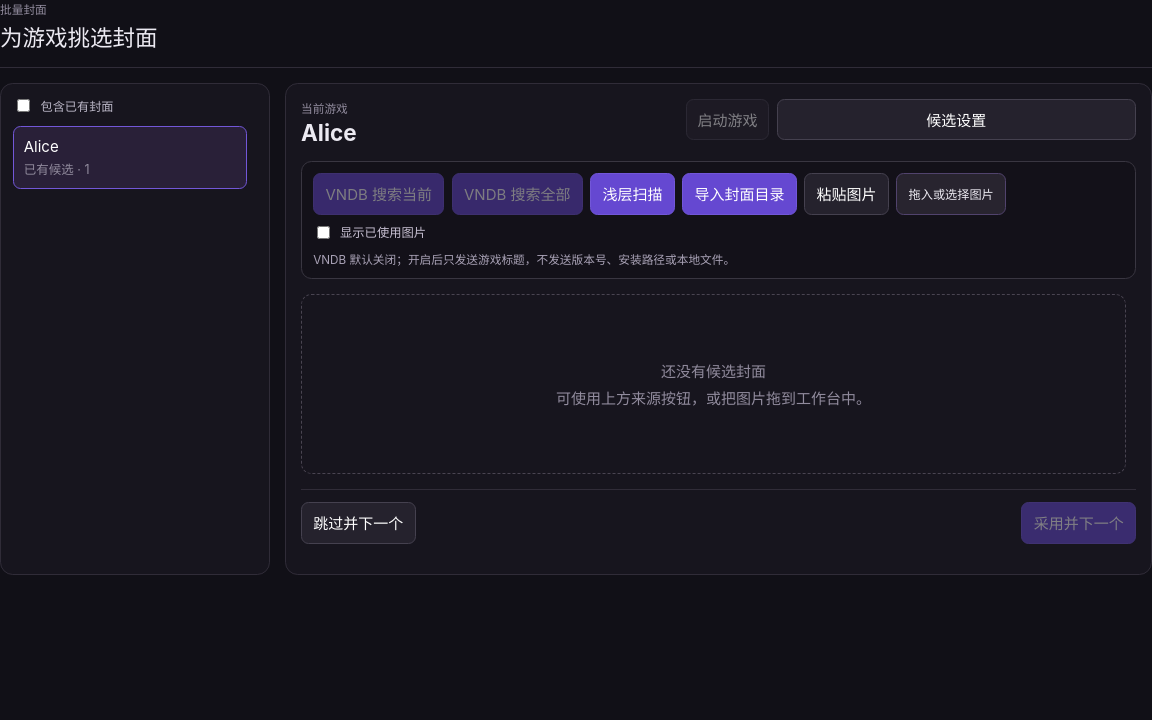
CoverWizardWorkspace › keeps settings form and reports a save failure
Click the button with test id "cover-settings-trigger". click: (956, 120)
box: [776,99,1136,140]
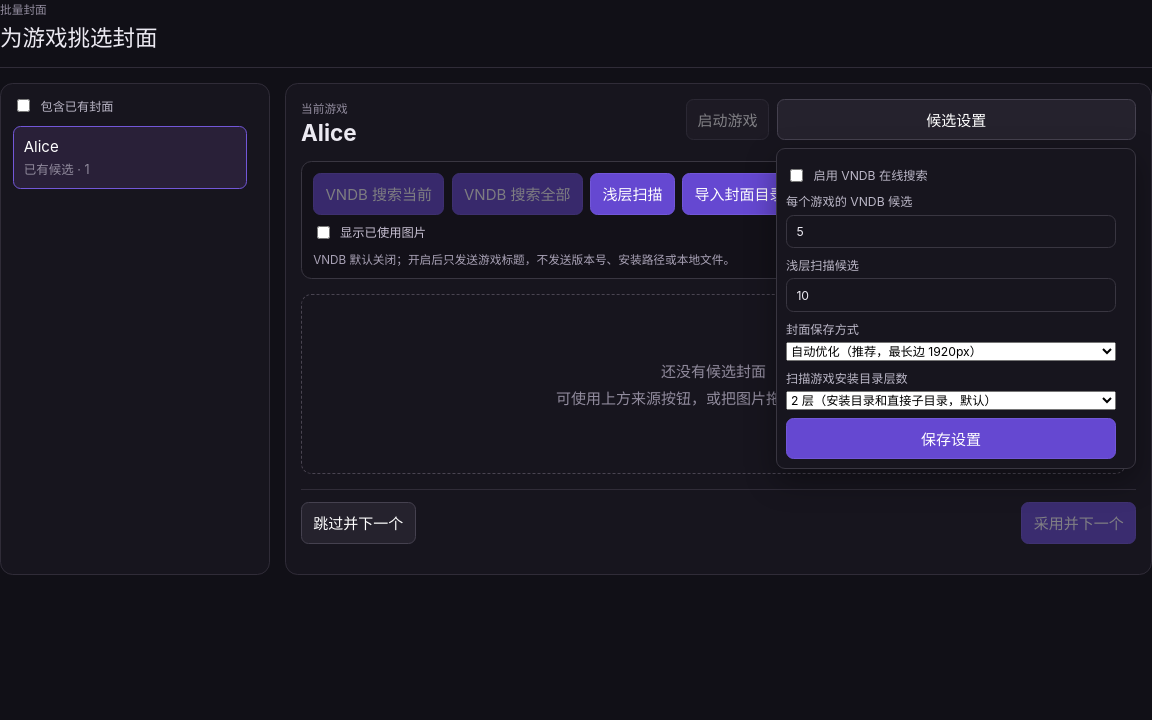
Click the checkbox labelled "启用 VNDB 在线搜索". click: (796, 175)
box: [790,168,803,182]
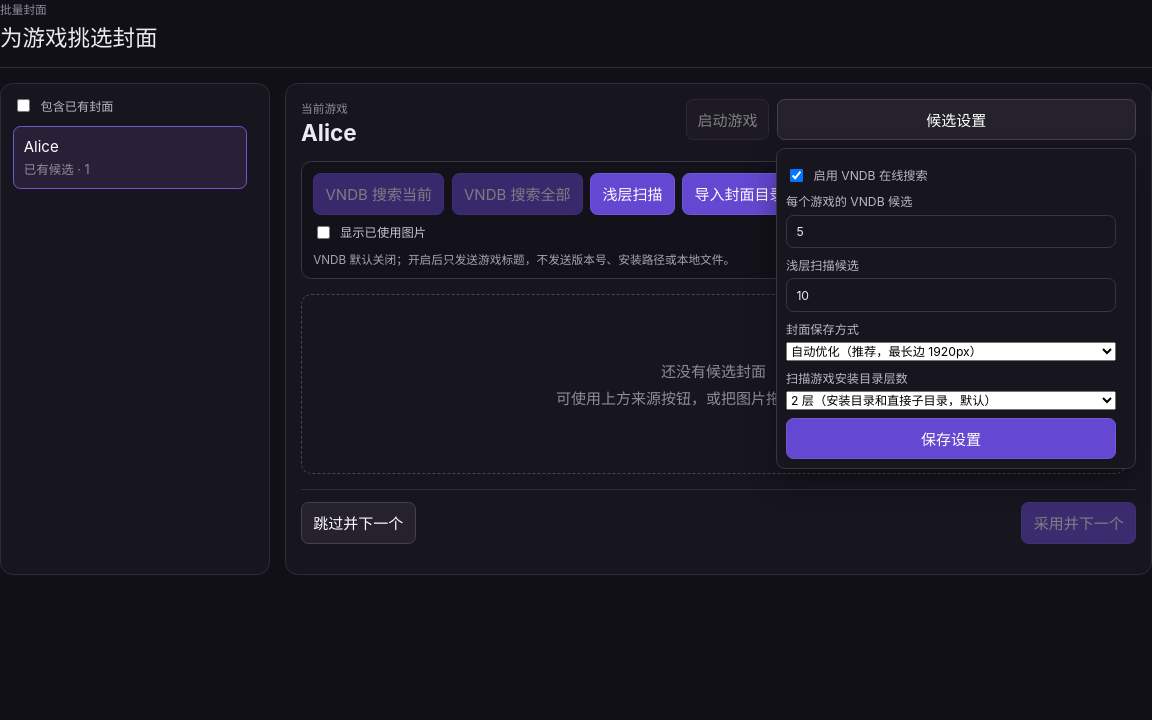
Select "保留原尺寸与格式" in the dropdown with test id "cover-optimize-mode". click: (951, 352)
box: [786,342,1116,361]
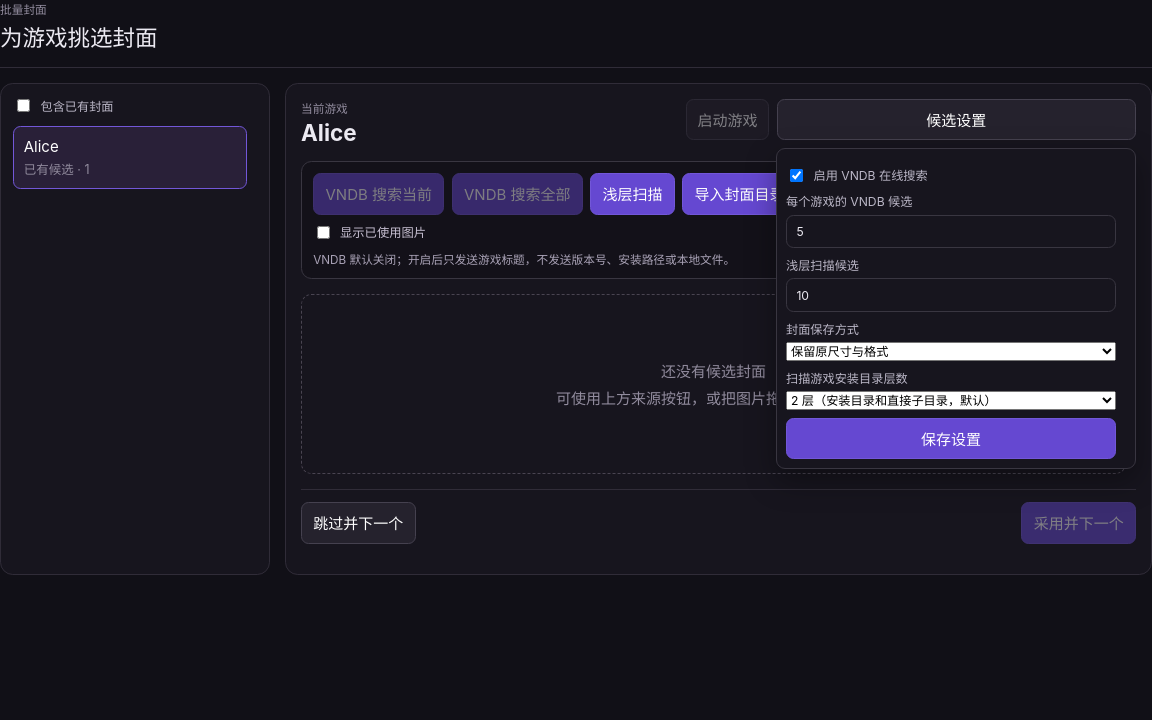
Select "3 层（再包含下一层子目录）" in the dropdown with test id "cover-local-scan-depth". click: (951, 401)
box: [786,391,1116,410]
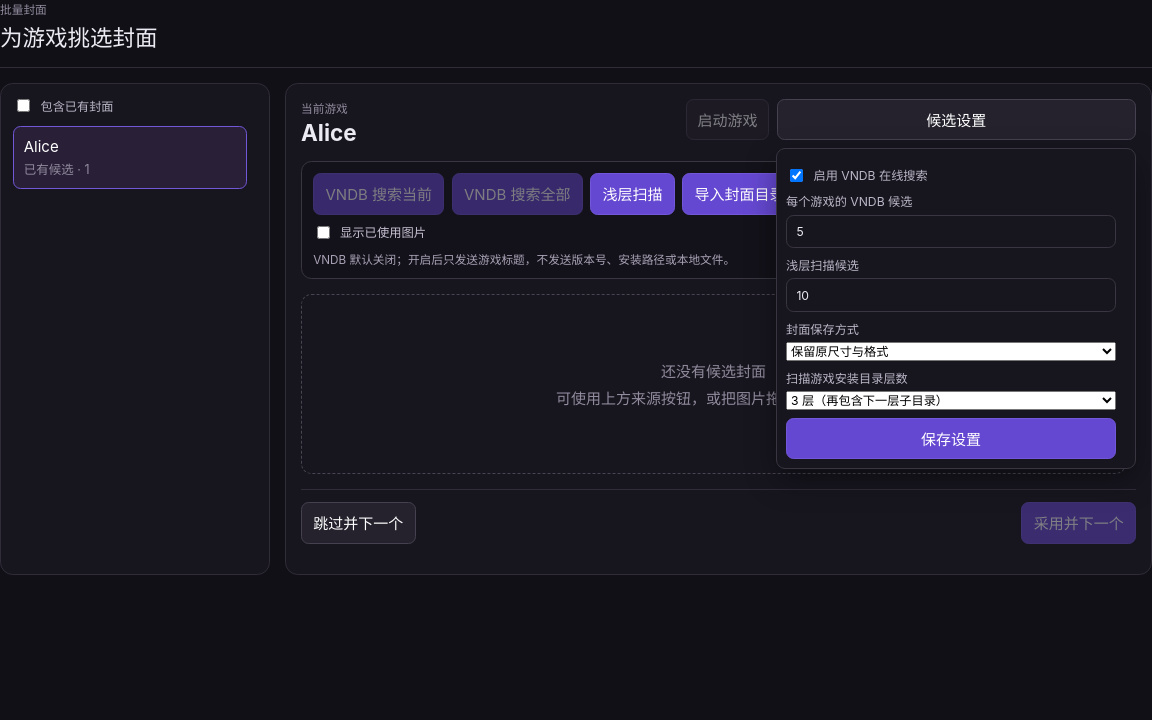
Submit the form, box [786,166,1116,459]
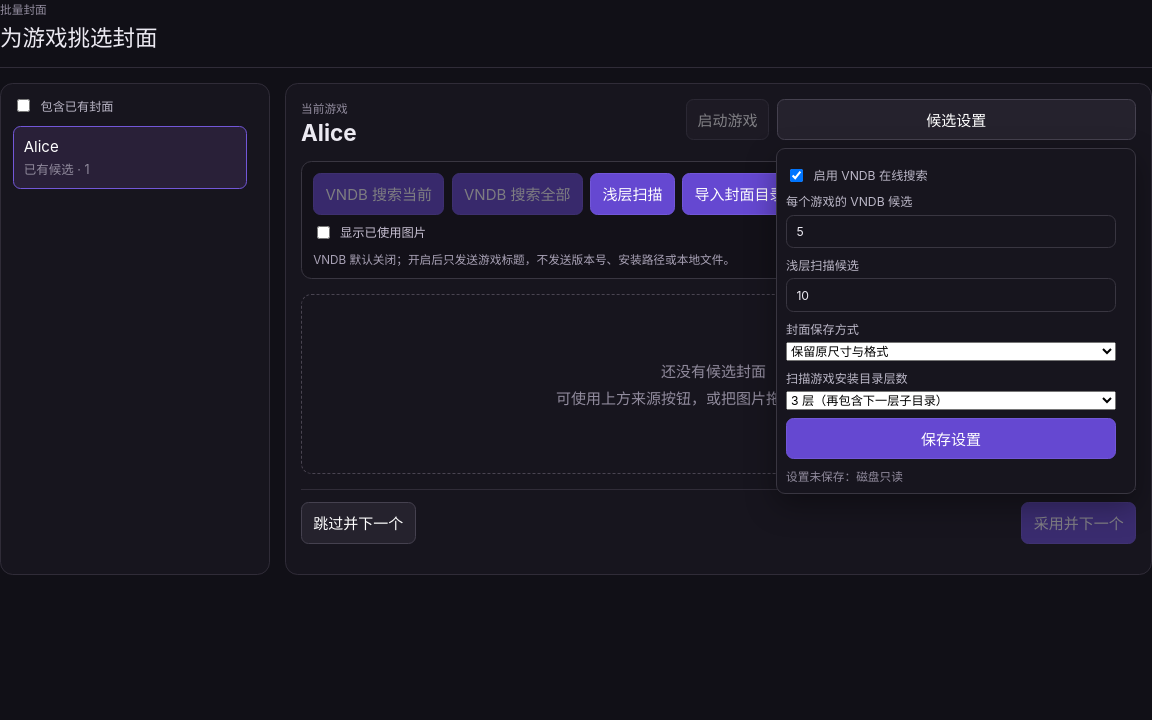
Result: the checkbox labelled "启用 VNDB 在线搜索" is checked at [790,168,803,182]
Result: the text "设置未保存：磁盘只读" is shown at [786,470,903,484]
